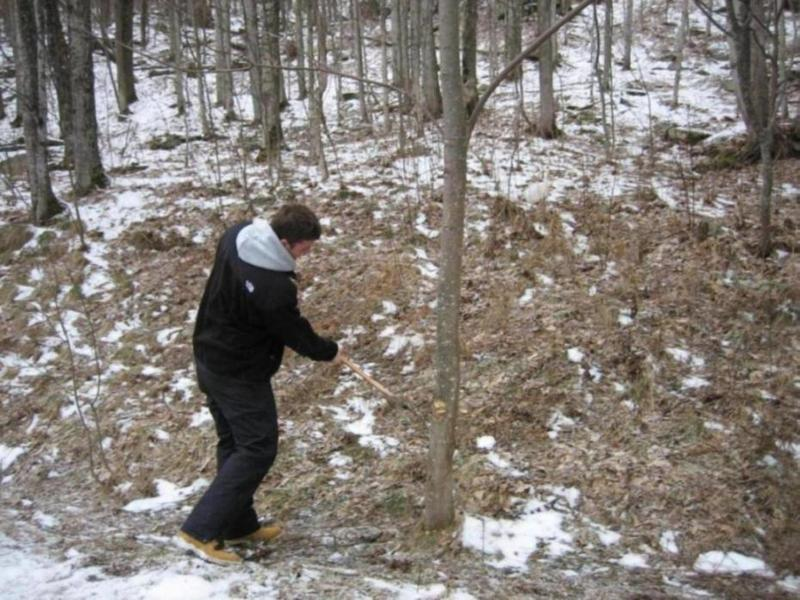person: (173, 205, 346, 568)
